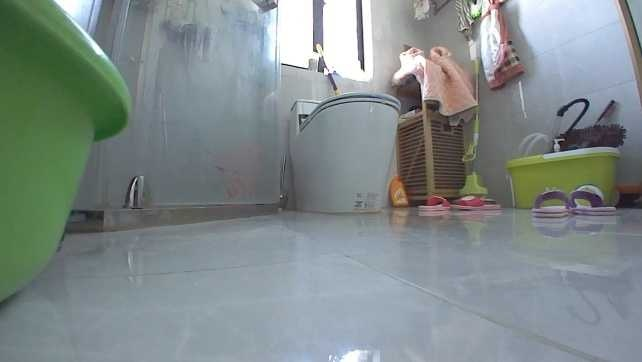slipper: (525, 183, 568, 217), (567, 188, 617, 216), (453, 191, 501, 211), (412, 191, 452, 211)
toilet: (285, 84, 402, 215)
